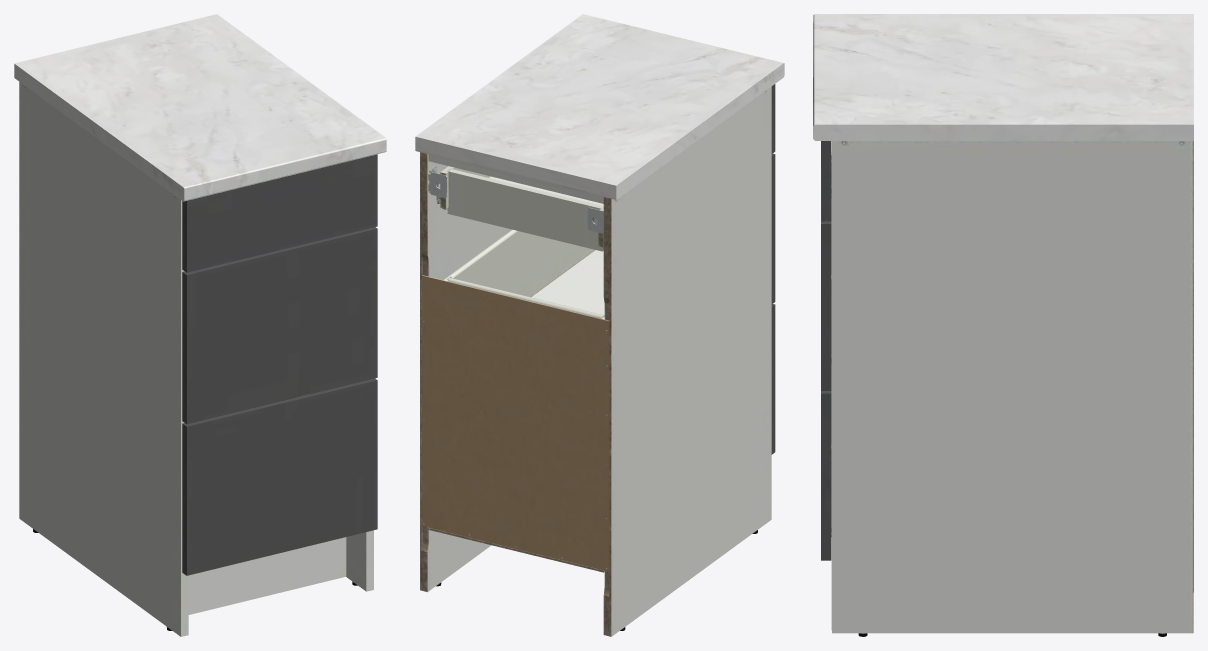
File: knoxhult-modulo-almacenaje-cocina-gris-oscuro.glb
3 views of the same model, side by side, from view 1: azimuth 30°, elevation 25°; view 2: azimuth 150°, elevation 25°; view 3: azimuth 270°, elevation 25° (orthographic). The views are drawn at different scales.
Visible parts, largest first — view 1: ASY_ART_60588785_S01_NV01; view 2: ASY_ART_60588785_S01_NV01; view 3: ASY_ART_60588785_S01_NV01.
Boxes of the visible parts, left/top/right/bottom form: ASY_ART_60588785_S01_NV01: left=14, top=14, right=386, bottom=636; ASY_ART_60588785_S01_NV01: left=415, top=14, right=784, bottom=636; ASY_ART_60588785_S01_NV01: left=813, top=14, right=1193, bottom=636.
Bounding box in the file's own units: 0.42 × 0.9102 × 0.6101.
2 materials, 1 textured.
